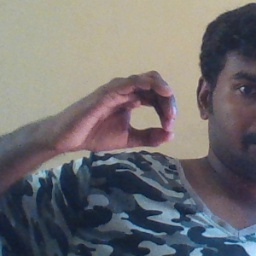O: (56, 68, 184, 154)
